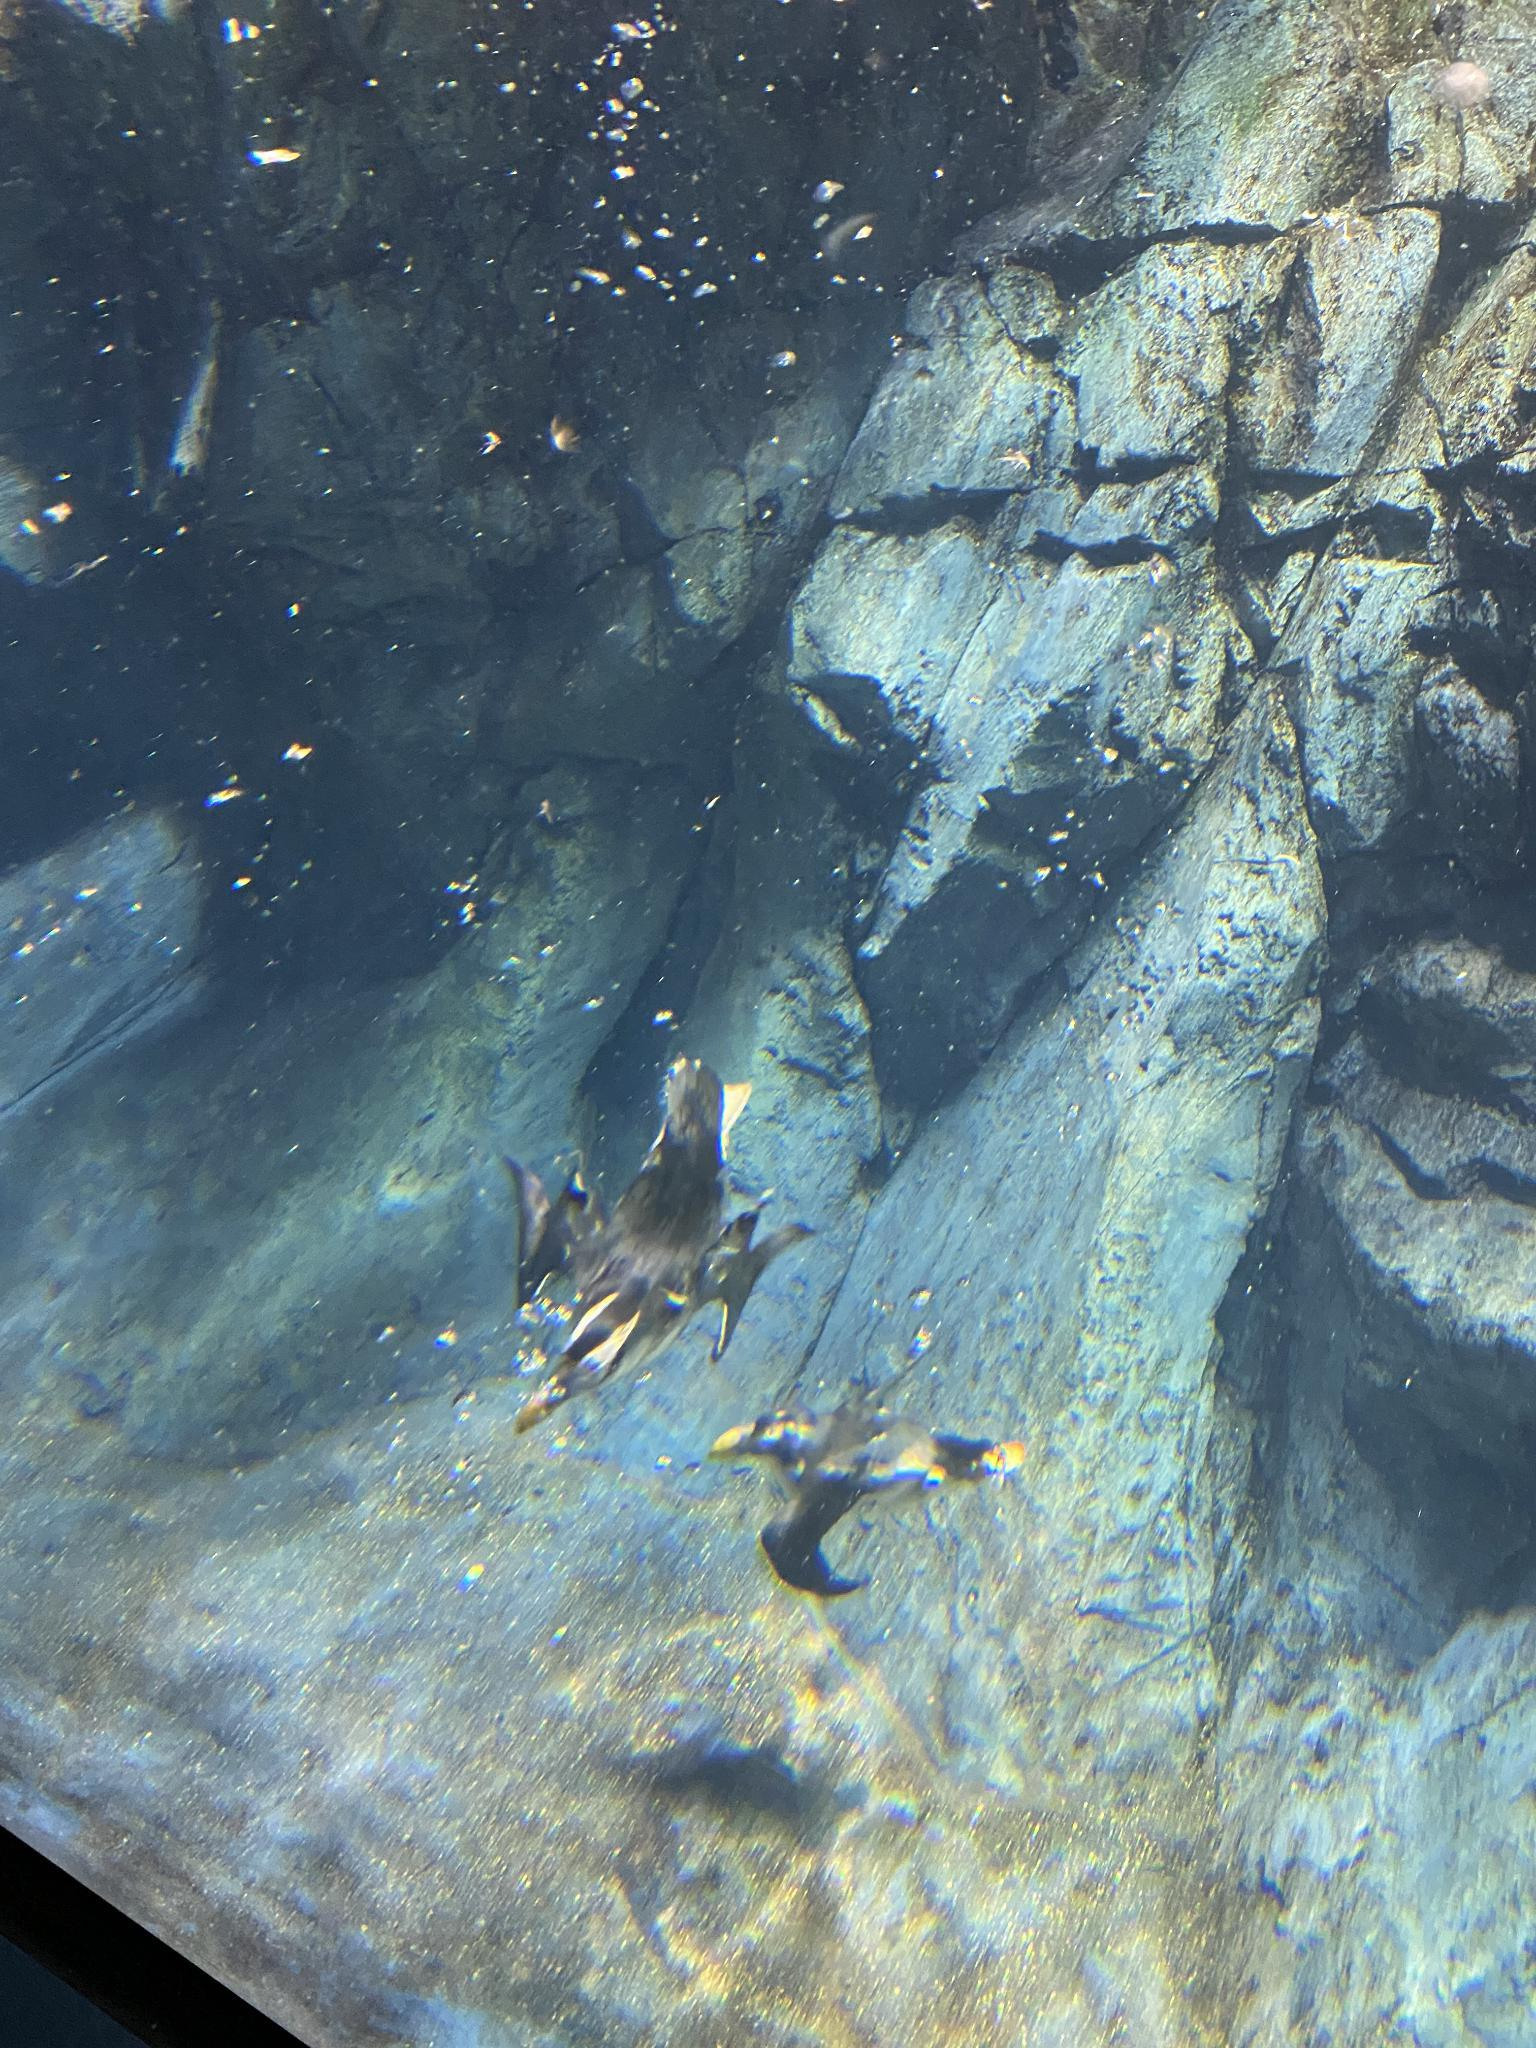puffin: (511, 1061, 815, 1434), (712, 1376, 1028, 1595)
